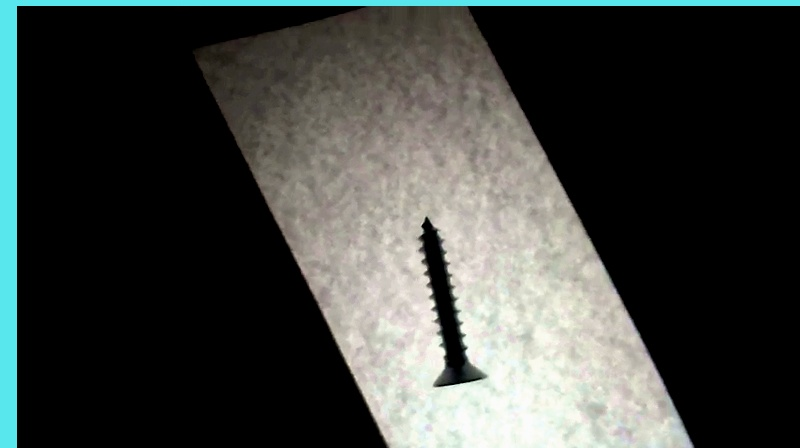S001: (416, 212, 490, 392)
